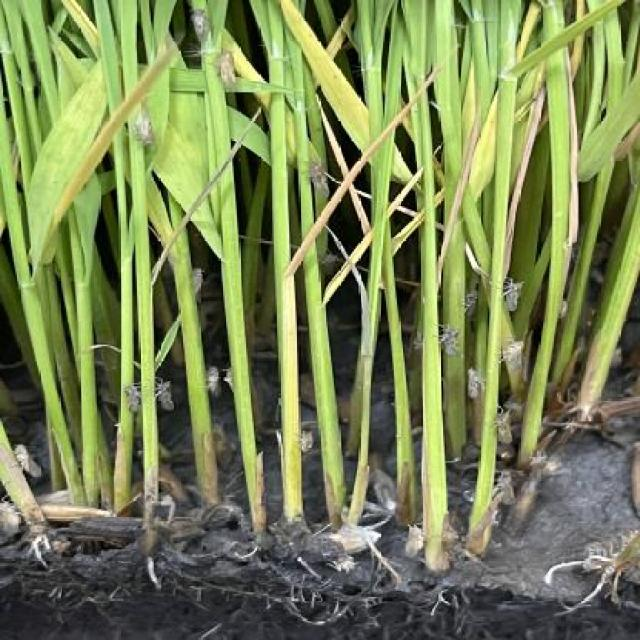wereng pada daun padi: (12, 423, 62, 492), (210, 34, 250, 105), (142, 362, 185, 417), (431, 307, 469, 369), (489, 394, 525, 458), (130, 99, 166, 160), (509, 262, 541, 326), (296, 412, 328, 468)
